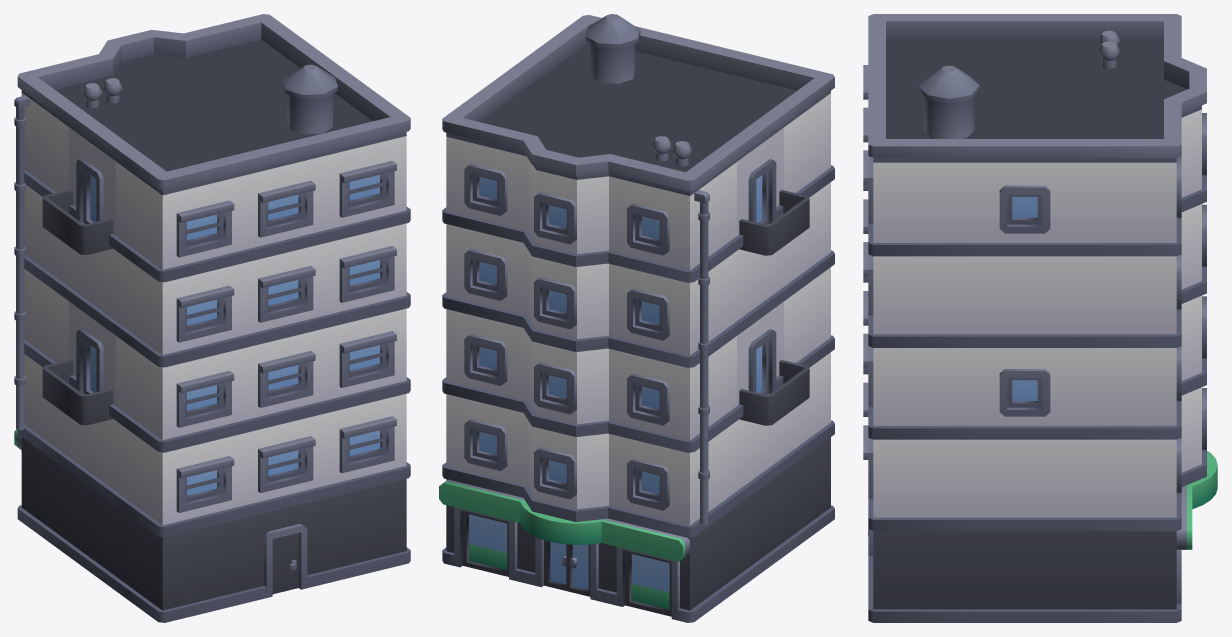
The model's file is building-l.glb.
3 renders of one model, left to right at view 1: azimuth 30°, elevation 25°; view 2: azimuth 150°, elevation 25°; view 3: azimuth 270°, elevation 25°, orthographic. The views are drawn at different scales.
Visible parts, largest first — view 1: building-l; view 2: building-l; view 3: building-l.
Part boxes in pixels (left/top/right/bottom): building-l: left=14, top=14, right=410, bottom=622; building-l: left=439, top=14, right=834, bottom=622; building-l: left=863, top=14, right=1217, bottom=622.
Bounding box in the file's own units: 1.37 × 2.27 × 1.4.
Materials: 1 (1 with a texture image).
